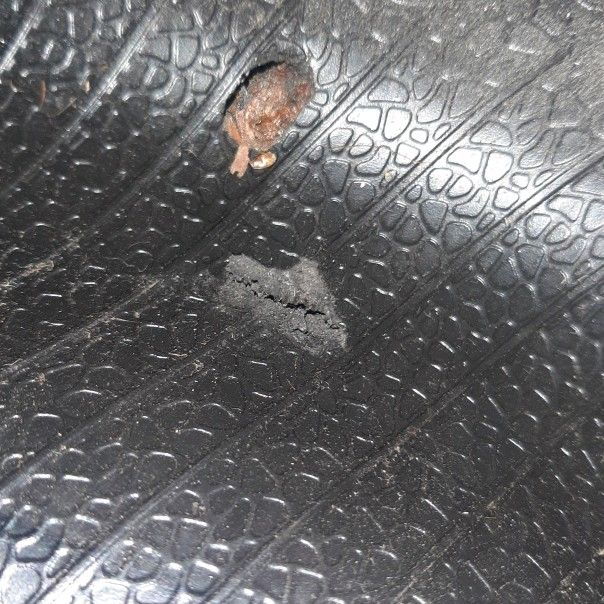CBU: (213, 250, 354, 358)
